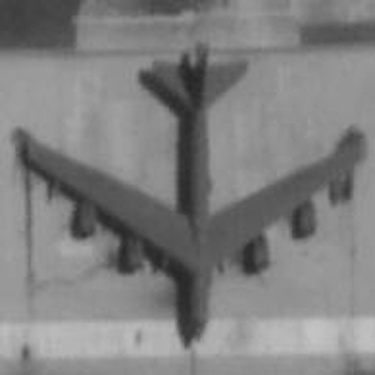airplane: (8, 29, 367, 350)
